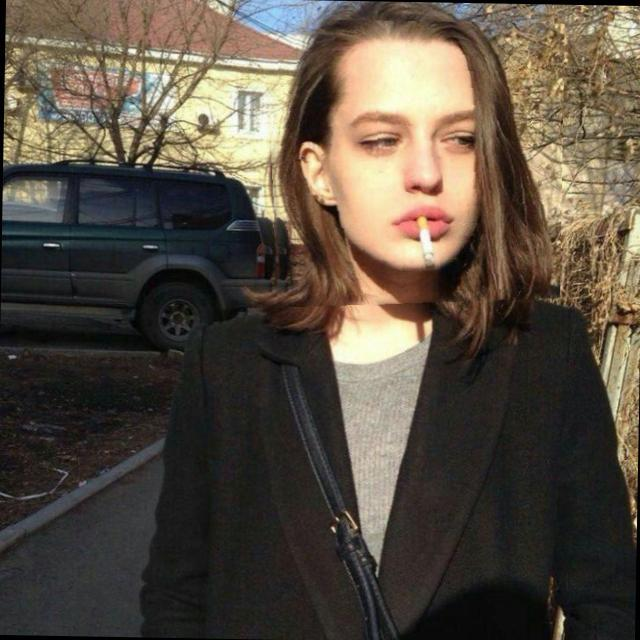cigarette: (398, 216, 422, 286)
